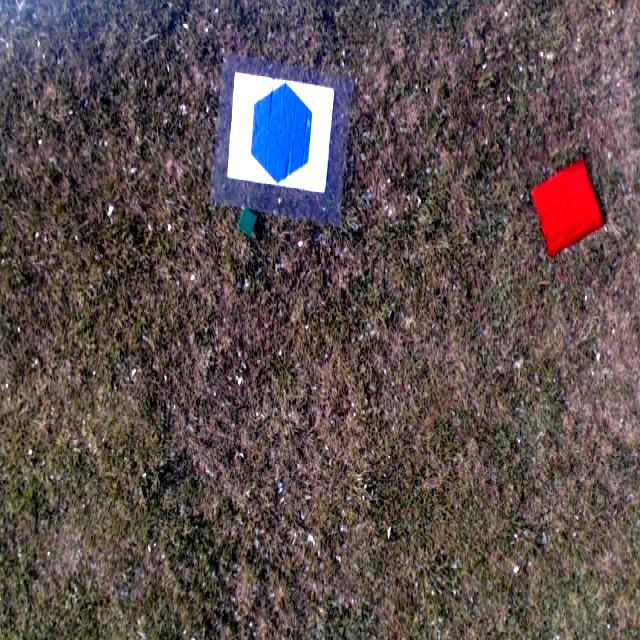blue_hexagon: (250, 80, 315, 184)
red_square: (529, 158, 608, 256)
